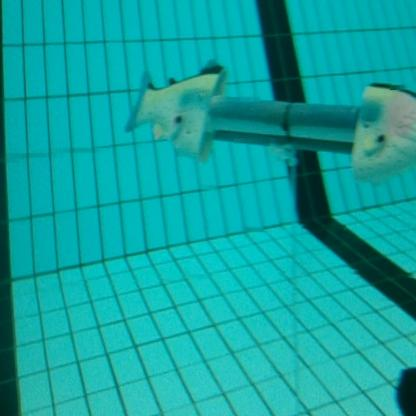tail: (122, 61, 231, 169)
